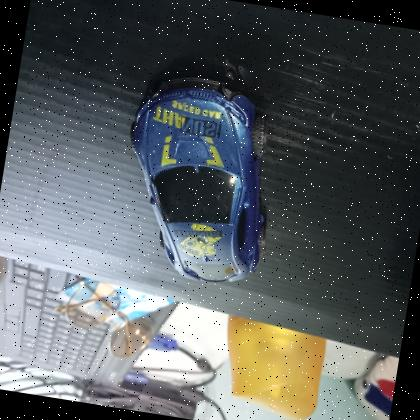Car: (104, 64, 294, 298)
